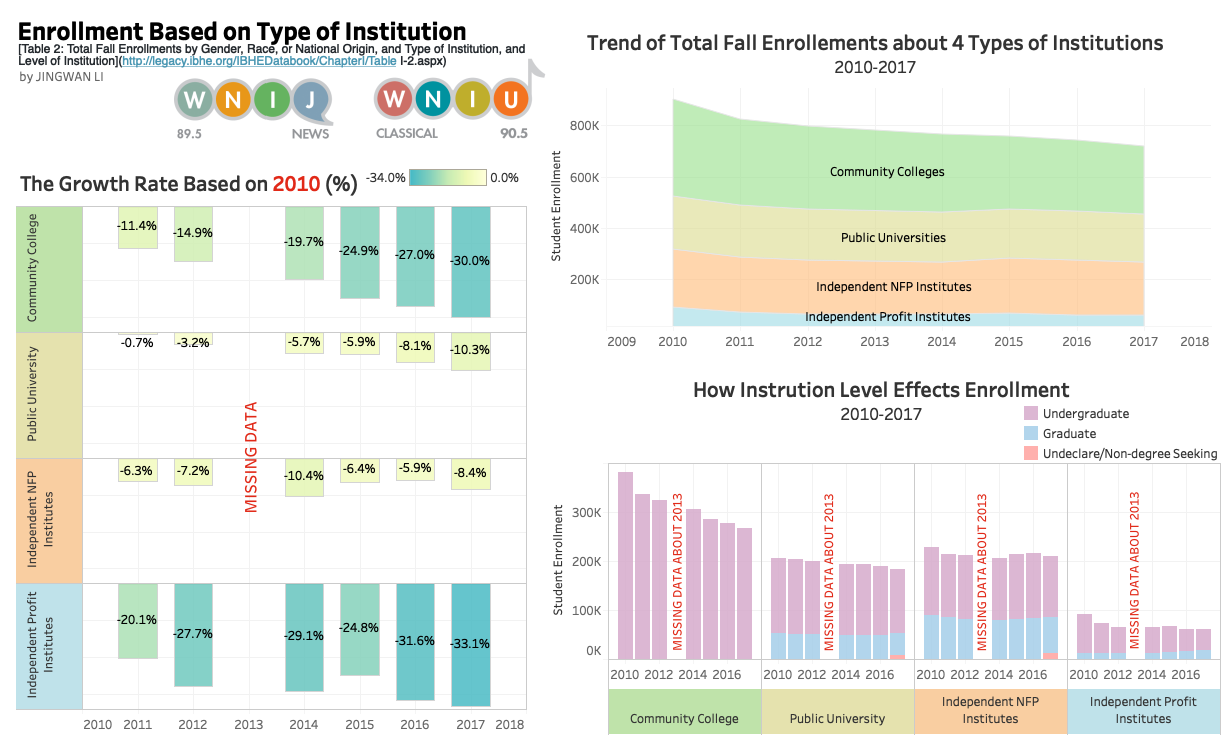

What the dashboard file says about the page in this screenshot:
{"tool":"tableau","page":{"name":"Dashboard 1","canvas":[1000,1000],"units":"permille","ordinal":0},"visuals":[{"type":"worksheet","title":"Sheet 1","mark":"Area","rows":["AllTotal"],"cols":["Year"],"box":[442.3,29.5,549.6,447.7]},{"type":"text","box":[13.1,50.9,431.6,48.3]},{"type":"image","param":"/Users/Yilia/Python/csci627-project02-Yilia59/logo.png","box":[141.7,76.4,306.3,127.4]},{"type":"text","box":[13.9,80.4,81.9,44.2]},{"type":"worksheet","title":"Sheet 5","mark":"Bar","rows":["Calculation_1312517869978537987","Calculation_1312517869981421574","Calculation_1312517869970886656","Calculation_1312517869971095553"],"cols":["Year"],"box":[13.1,218.5,418.5,773.5]},{"type":"legend","title":"Sheet 5","param":"[federated.1nt31td12r45vc1eib2vi05w9cpl].[max:Calculation_1312517869978537987:qk","box":[296.5,221.2,132.7,67]},{"type":"text","box":[188.4,277.5,32.8,674.3]},{"type":"worksheet","title":"Sheet 6","mark":"Bar","rows":["AllTotal"],"cols":["Type","Year"],"box":[443.9,494.6,556.1,430.3]},{"type":"worksheet","title":"Sheet 3","mark":"GanttBar","box":[498.8,563,501.2,131.4]},{"type":"text","box":[799.3,631.4,9,246.7]},{"type":"text","box":[549.6,646.1,9.8,244]},{"type":"text","box":[919.7,654.2,18,223.9]},{"type":"text","box":[673.2,662.2,10.7,215.8]},{"type":"worksheet","title":"Sheet 7","mark":"Bar","cols":["Calculation_1312517869978537987","Calculation_1312517869981421574","Calculation_1312517869970886656","Calculation_1312517869971095553"],"box":[497.9,883.4,502.9,101.9]}]}

Visuals, with their boxes on the dashboard's canvas, which has no fixed pixel size, in thousandths of its width and height (x1, y1, x2, y2). These are canvas units, not pixel positions in the 1221x746 screenshot, which may show the page scaled, cropped or inside an application window:
"Sheet 1" worksheet (Area marks): crop(442, 30, 992, 477)
text: crop(13, 51, 445, 99)
image: crop(142, 76, 448, 204)
text: crop(14, 80, 96, 125)
"Sheet 5" worksheet (Bar marks): crop(13, 218, 432, 992)
"Sheet 5" legend: crop(296, 221, 429, 288)
text: crop(188, 278, 221, 952)
"Sheet 6" worksheet (Bar marks): crop(444, 495, 1000, 925)
"Sheet 3" worksheet (GanttBar marks): crop(499, 563, 1000, 694)
text: crop(799, 631, 808, 878)
text: crop(550, 646, 559, 890)
text: crop(920, 654, 938, 878)
text: crop(673, 662, 684, 878)
"Sheet 7" worksheet (Bar marks): crop(498, 883, 1001, 985)
